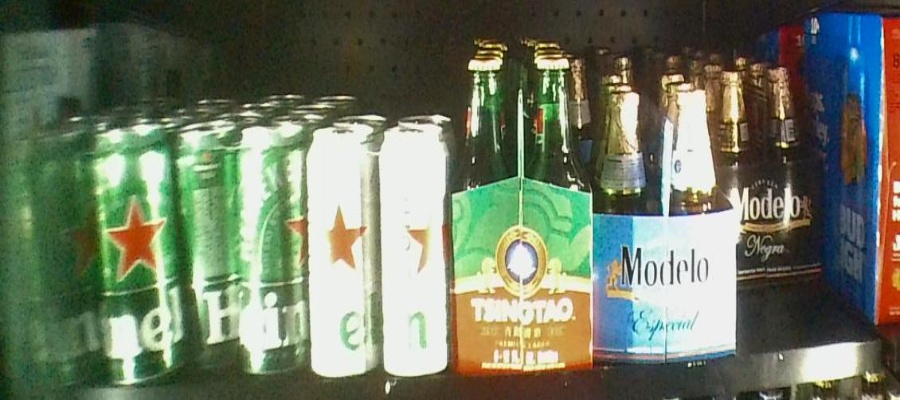bottle: (449, 39, 594, 377), (6, 134, 183, 385), (597, 82, 735, 360), (305, 126, 452, 380), (186, 127, 307, 376), (724, 68, 820, 283)
